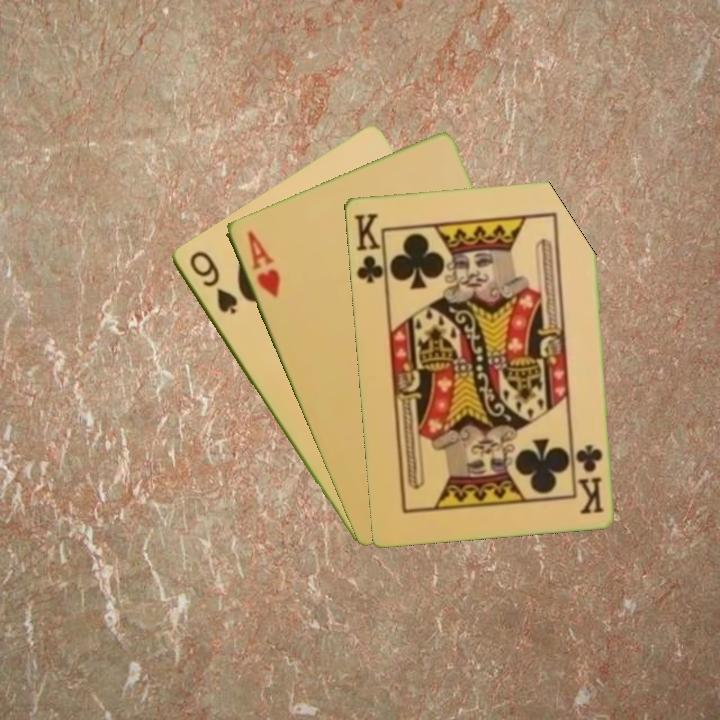9s: (185, 247, 241, 318)
Ah: (243, 227, 283, 301)
Kc: (350, 209, 389, 289), (574, 440, 606, 517)
